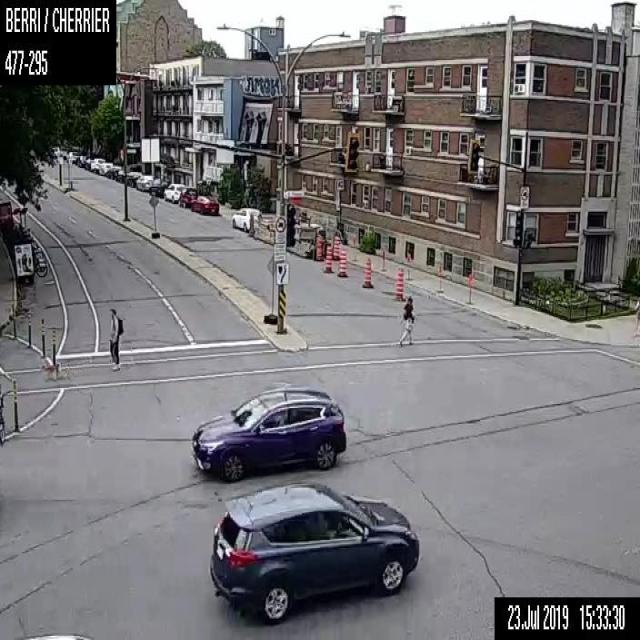construction: (392, 266, 404, 300), (361, 257, 372, 288), (464, 274, 476, 301), (336, 249, 348, 276), (323, 244, 334, 272), (330, 235, 342, 259), (404, 251, 412, 279), (316, 235, 323, 259), (436, 264, 442, 291), (380, 249, 386, 271)
pedestrian: (107, 308, 123, 369), (398, 295, 415, 345)
vehicle: (208, 478, 418, 626), (191, 386, 345, 479), (231, 207, 260, 231), (190, 194, 218, 213), (163, 182, 186, 202), (178, 186, 196, 207), (148, 178, 167, 196), (135, 175, 152, 190), (126, 170, 141, 187), (90, 158, 104, 174), (106, 165, 120, 178), (100, 162, 112, 175), (114, 169, 126, 181), (84, 157, 94, 170), (77, 155, 88, 166), (68, 150, 78, 162)
